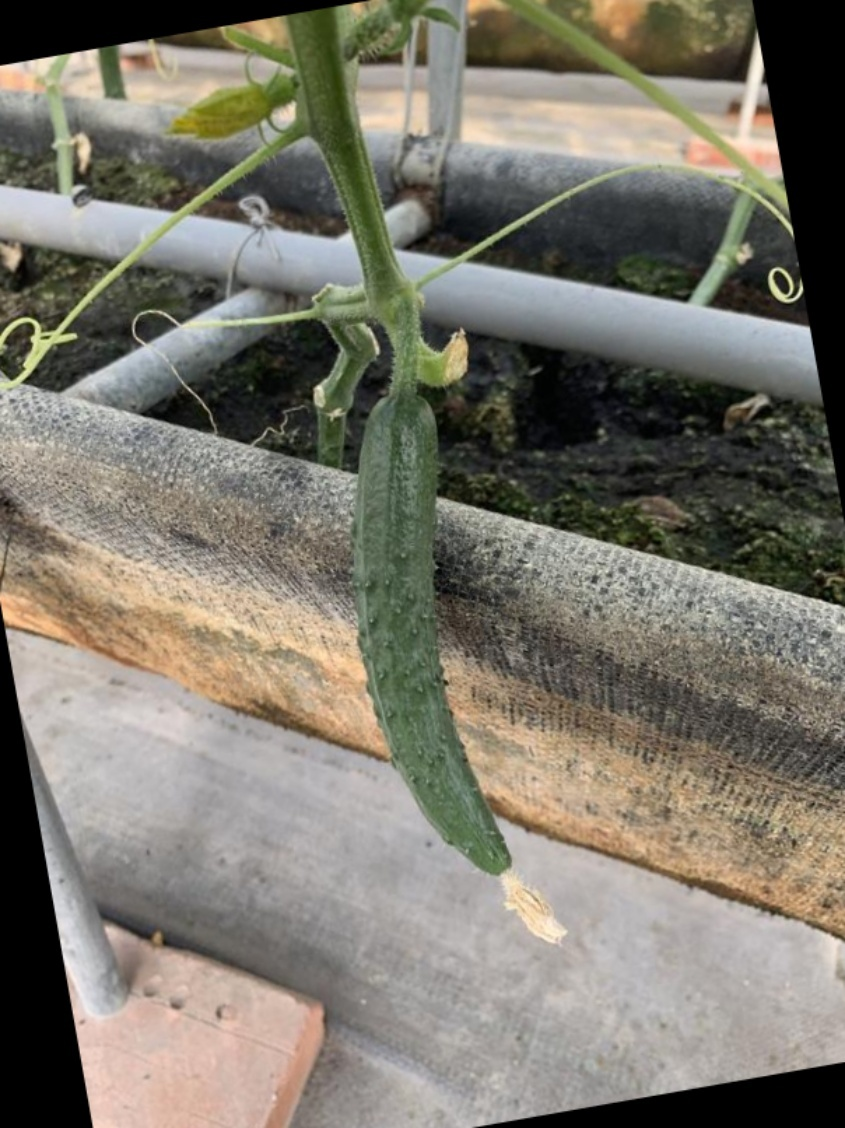growth: (327, 386, 524, 909)
mature: (330, 400, 526, 905)
